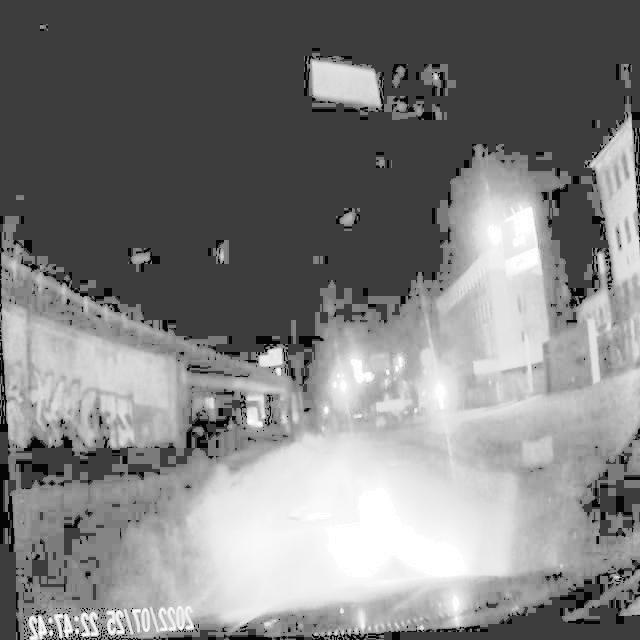Pothole: (280, 492, 332, 537), (380, 453, 407, 480)
